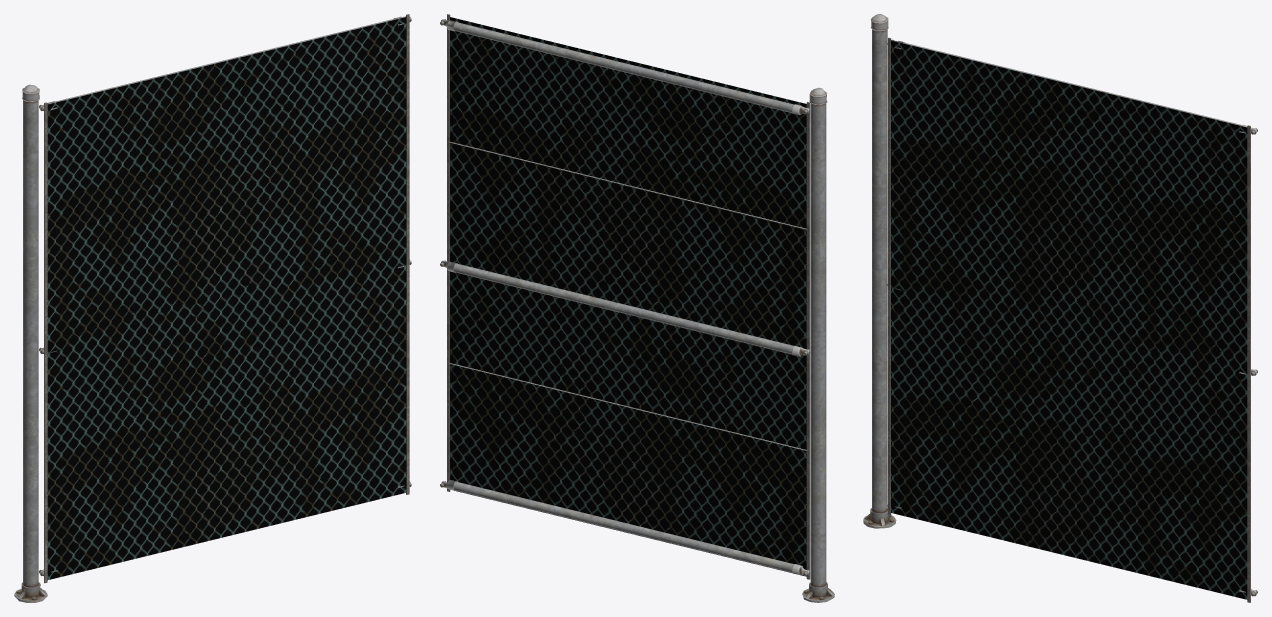
Rendered from chainlink-kit.glb.
3 views of the same model, side by side, from view 1: azimuth 30°, elevation 25°; view 2: azimuth 150°, elevation 25°; view 3: azimuth 330°, elevation 25° (orthographic).
Parts seen in each view (by area): view 1: Fence panel · 2 metre bay, Fence post; view 2: Fence panel · 2 metre bay, Fence post; view 3: Fence panel · 2 metre bay, Fence post.
Part boxes in pixels (<box>): Fence panel · 2 metre bay: <box>39,14,411,583</box>; Fence post: <box>14,84,47,602</box>; Fence panel · 2 metre bay: <box>440,14,810,579</box>; Fence post: <box>802,87,834,602</box>; Fence panel · 2 metre bay: <box>887,37,1257,602</box>; Fence post: <box>863,14,896,528</box>.
Size of the model in its own units: 2.04 by 2.52 by 0.1469.
2 materials, 2 textured.
